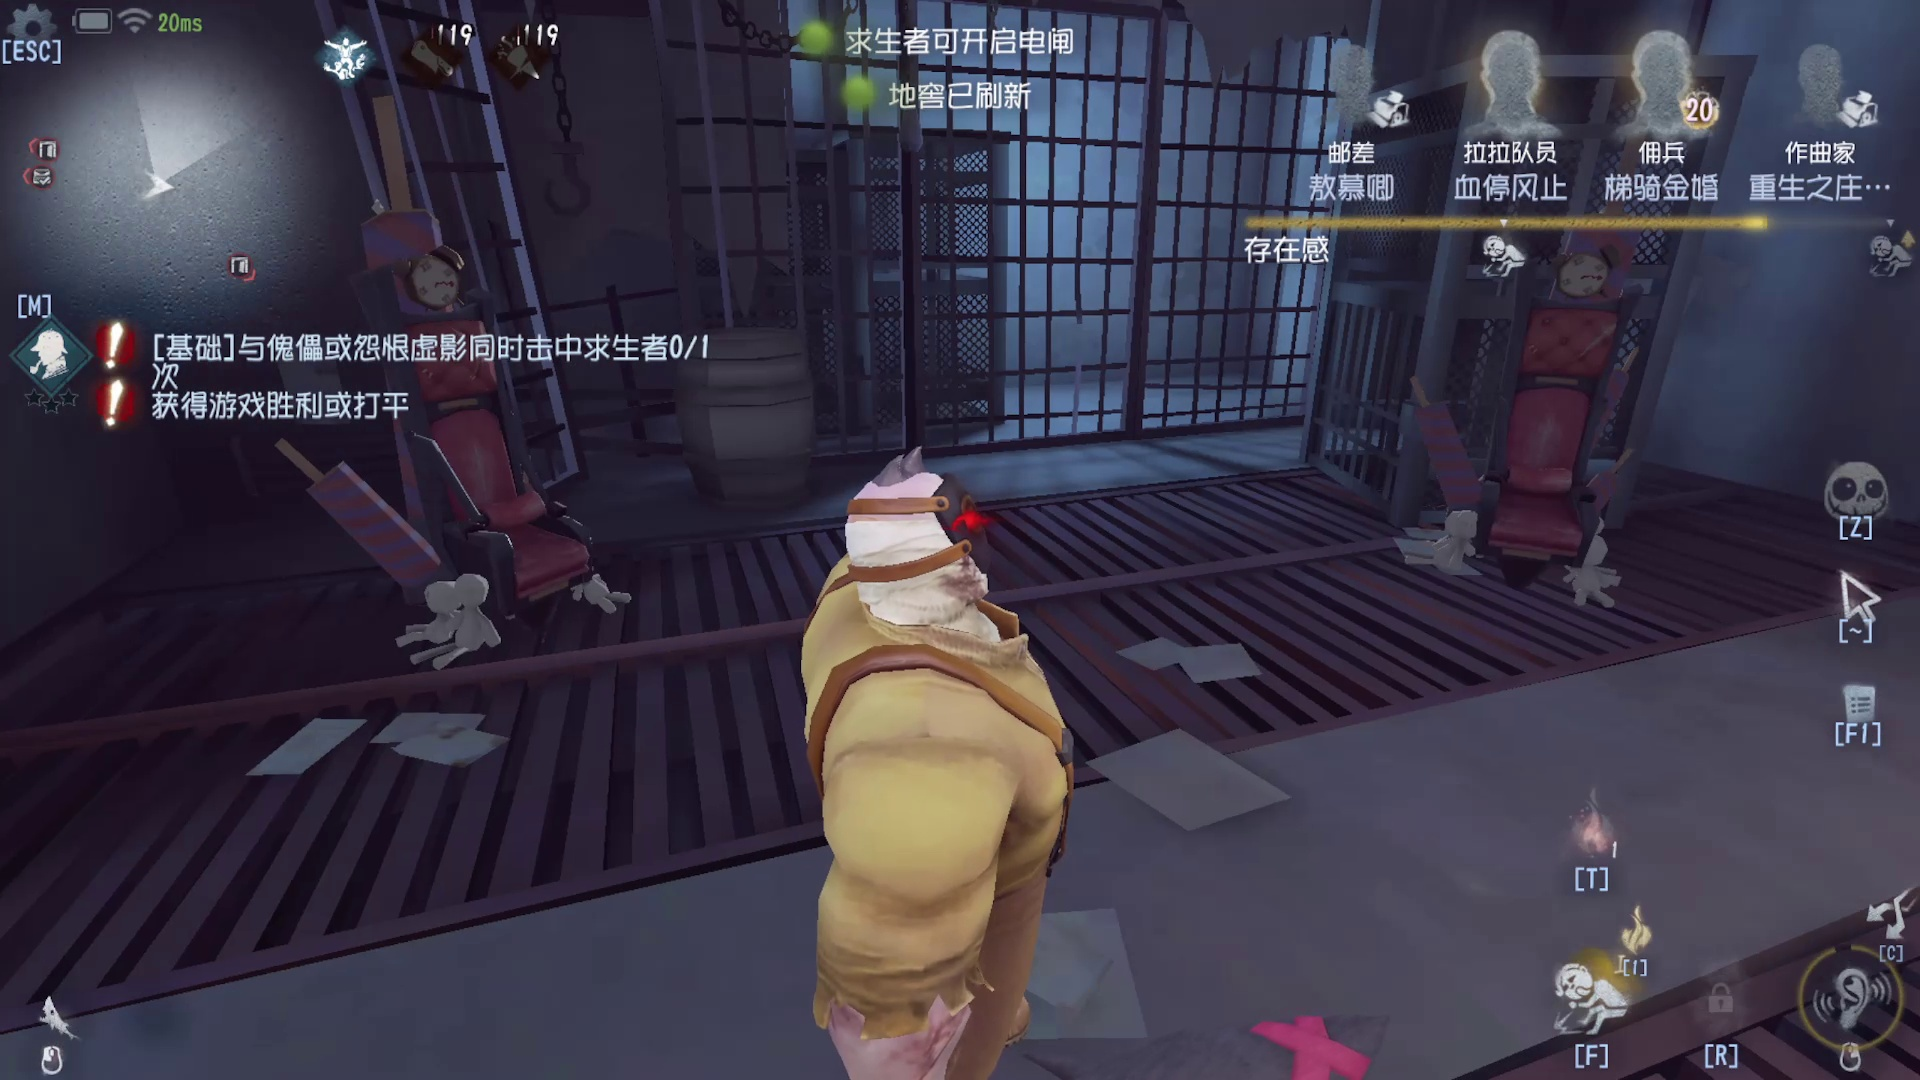狂欢之椅: (313, 138, 634, 651), (1402, 219, 1671, 626)
设置: (1, 1, 71, 54)
